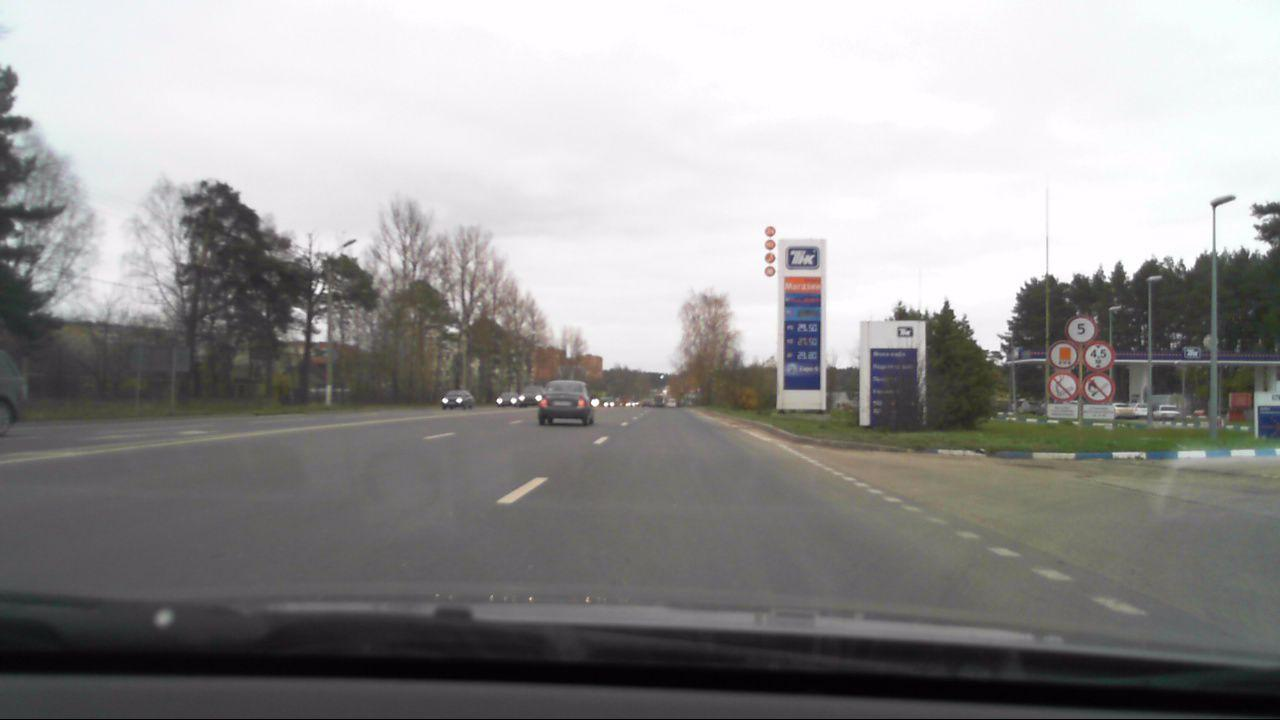3_13: (1083, 339, 1114, 373)
3_24: (1065, 317, 1097, 344)
3_32: (1048, 340, 1077, 370)
